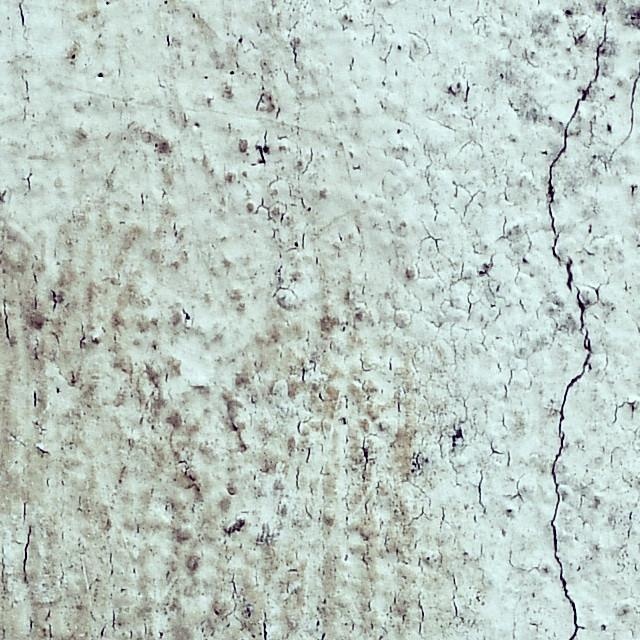vertical cracks: (547, 21, 606, 639)
